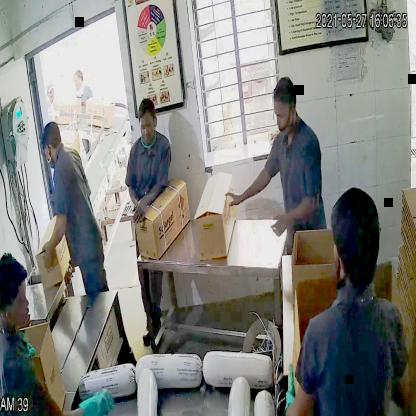no_goggles: (137, 113, 159, 135), (272, 104, 293, 126)
